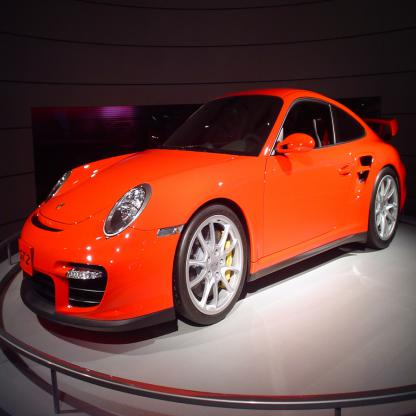Car: (18, 88, 407, 331)
